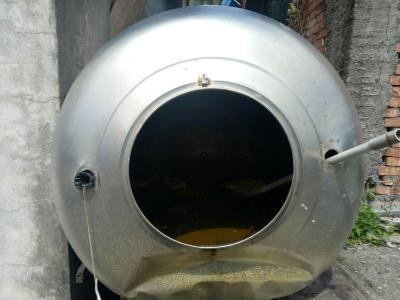water_tower: (46, 5, 369, 293)
